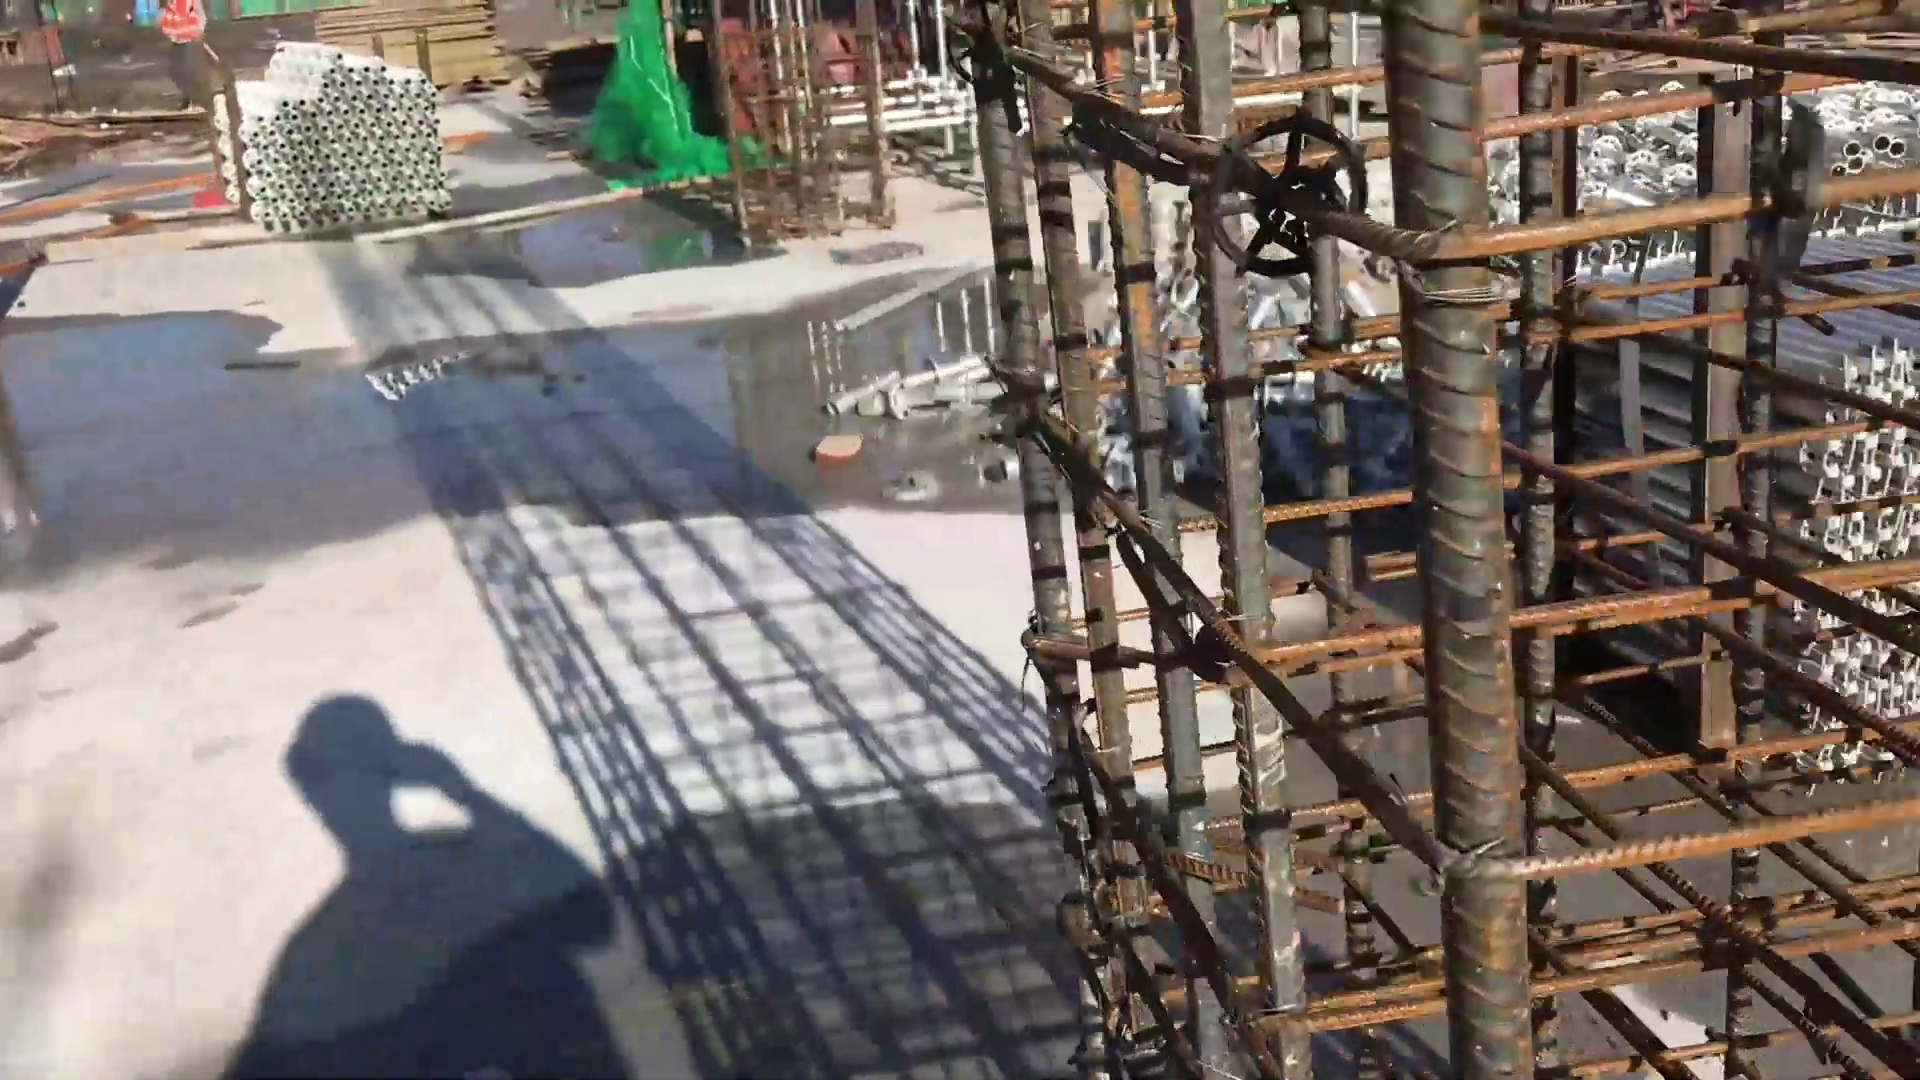scaffold: (225, 22, 459, 239)
